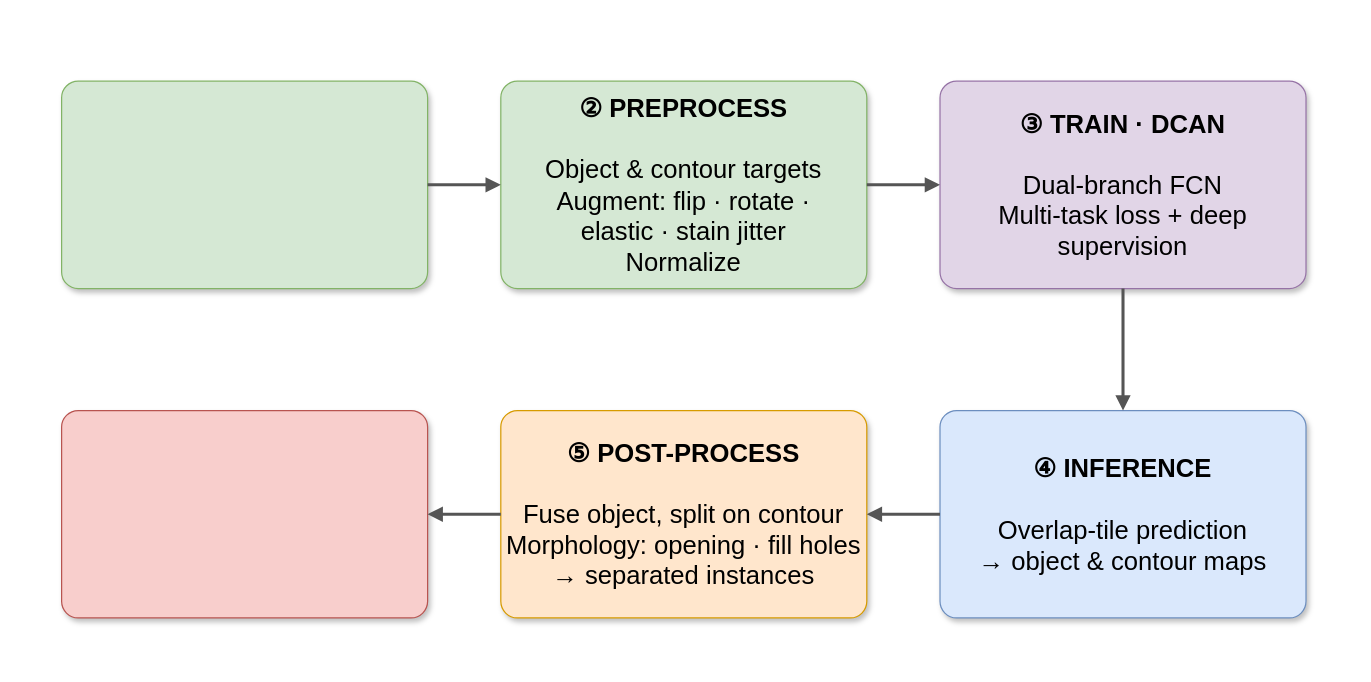
The diagram is 1371 pixels wide and 682 high, and some of its shapes have lost their labels. Each missing label, with the centre of its shape:
"① INPUT H&E histology image + ground-truth labels (training)" goes at (x=245, y=186).
"⑥ EVALUATE Detection F1 Object-Dice · Object-Hausdorff" goes at (x=245, y=515).
